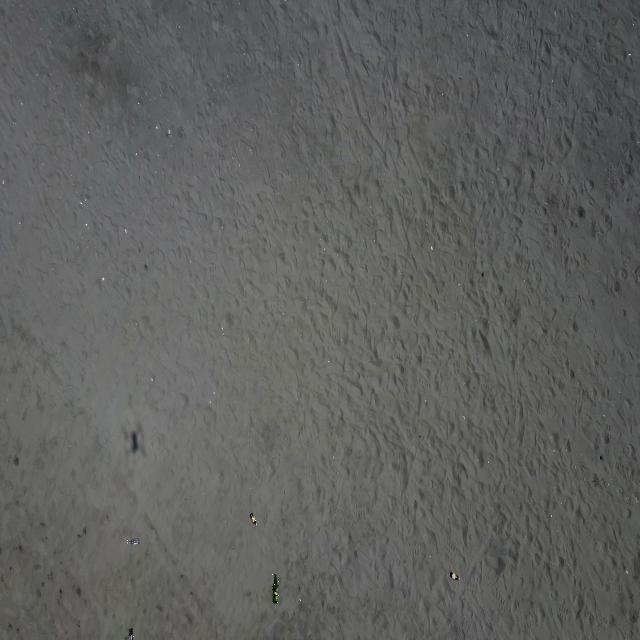glass: (272, 573, 279, 605), (126, 537, 140, 546), (449, 570, 460, 581), (250, 512, 257, 527), (128, 626, 134, 640)
